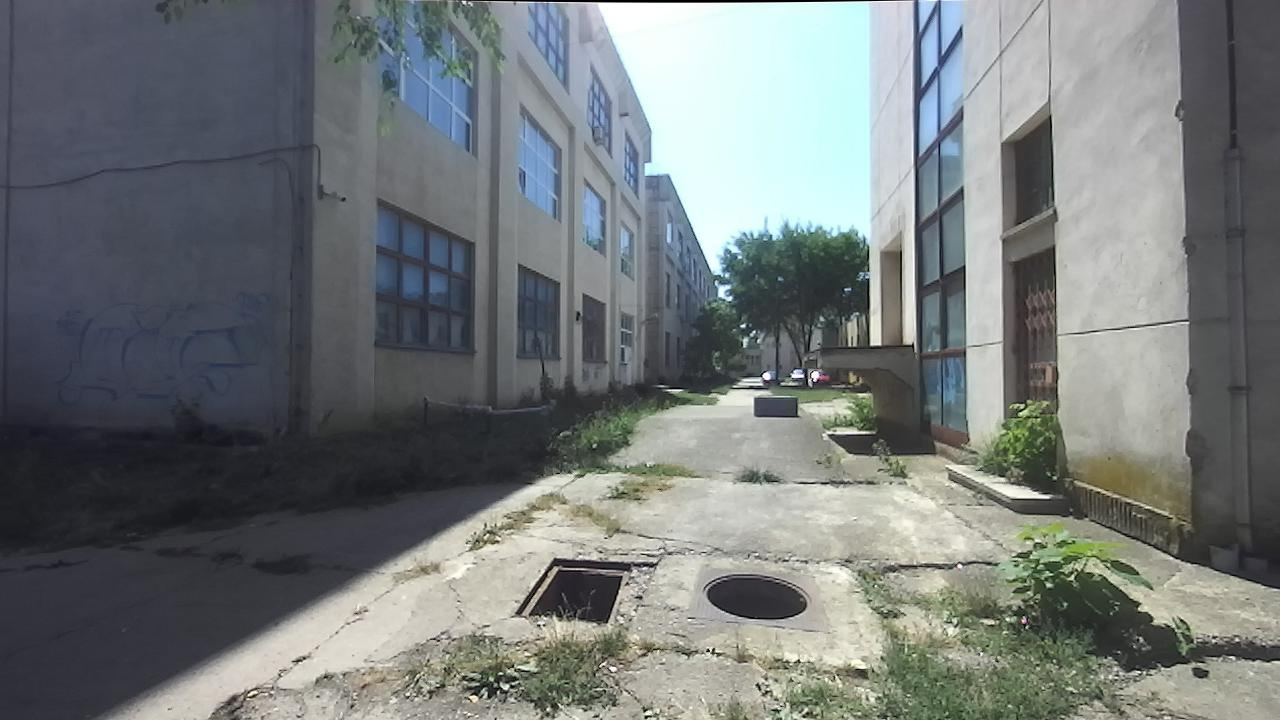drain: (508, 554, 633, 630), (696, 568, 815, 621)
